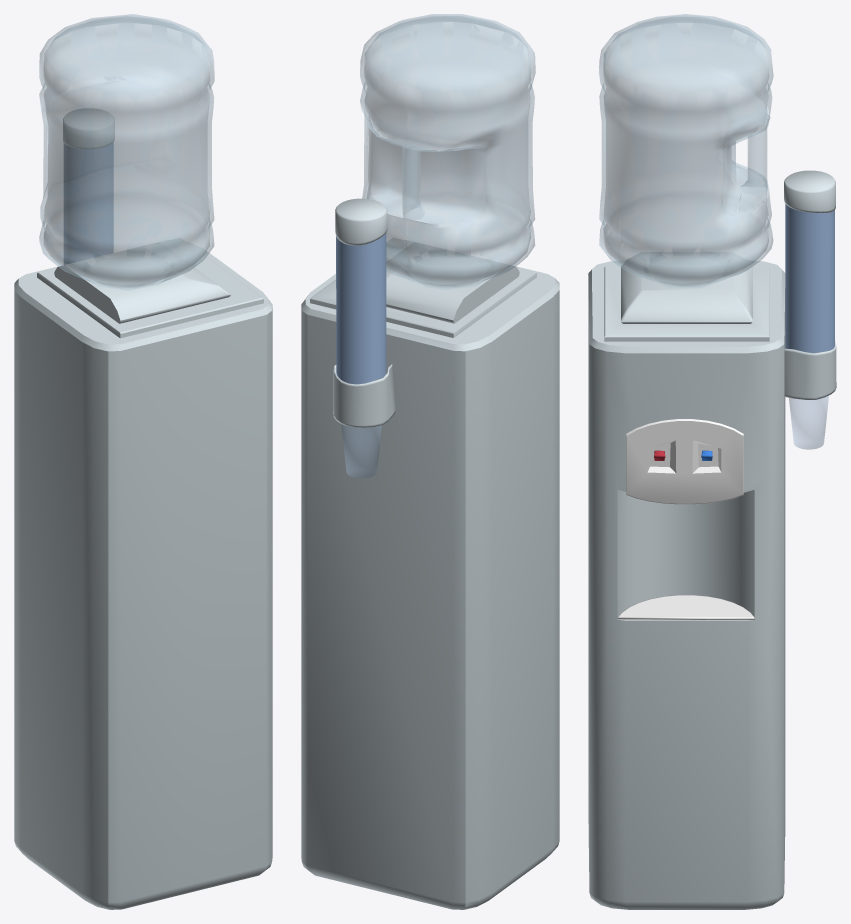
Rendered from water-cooler.glb.
3 views of the same model, side by side, from view 1: azimuth 30°, elevation 25°; view 2: azimuth 150°, elevation 25°; view 3: azimuth 270°, elevation 25° (orthographic).
Parts seen in each view (by area): view 1: water_dispenser, water_jug, water, water_jug_stand, cup_holder_mid, cup_holder_top; view 2: water_dispenser, water_jug, water, water_jug_stand, cup_holder_mid, cup_holder_bot, cup_holder_top, cup, water_jug_handle; view 3: water_dispenser, water_jug, water, water_jug_stand, water_taps_base, cup_holder_mid, drip_tray, cup_holder_bot, cup_holder_top, cup, water_jug_handle.
Part boxes in pixels (left/top/right/bottom): water_dispenser: left=14, top=240, right=272, bottom=909; water_jug: left=39, top=14, right=214, bottom=290; water: left=44, top=23, right=209, bottom=287; water_jug_stand: left=37, top=238, right=263, bottom=338; cup_holder_mid: left=64, top=142, right=113, bottom=264; cup_holder_top: left=63, top=108, right=114, bottom=148; water_dispenser: left=301, top=240, right=559, bottom=909; water_jug: left=360, top=14, right=535, bottom=289; water: left=364, top=22, right=530, bottom=286; water_jug_stand: left=310, top=238, right=536, bottom=337; cup_holder_mid: left=336, top=233, right=386, bottom=384; cup_holder_bot: left=333, top=364, right=395, bottom=427; cup_holder_top: left=335, top=198, right=387, bottom=245; cup: left=341, top=424, right=381, bottom=477; water_jug_handle: left=402, top=146, right=424, bottom=219; water_dispenser: left=588, top=260, right=785, bottom=909; water_jug: left=599, top=14, right=773, bottom=287; water: left=603, top=23, right=768, bottom=286; water_jug_stand: left=604, top=252, right=769, bottom=341; water_taps_base: left=626, top=419, right=743, bottom=504; cup_holder_mid: left=785, top=204, right=834, bottom=352; drip_tray: left=617, top=595, right=754, bottom=619; cup_holder_bot: left=784, top=331, right=836, bottom=399; cup_holder_top: left=784, top=170, right=835, bottom=212; cup: left=789, top=396, right=828, bottom=449; water_jug_handle: left=740, top=115, right=770, bottom=194.
Bounding box in the file's own units: 0.3608 × 1.49 × 0.4087.
